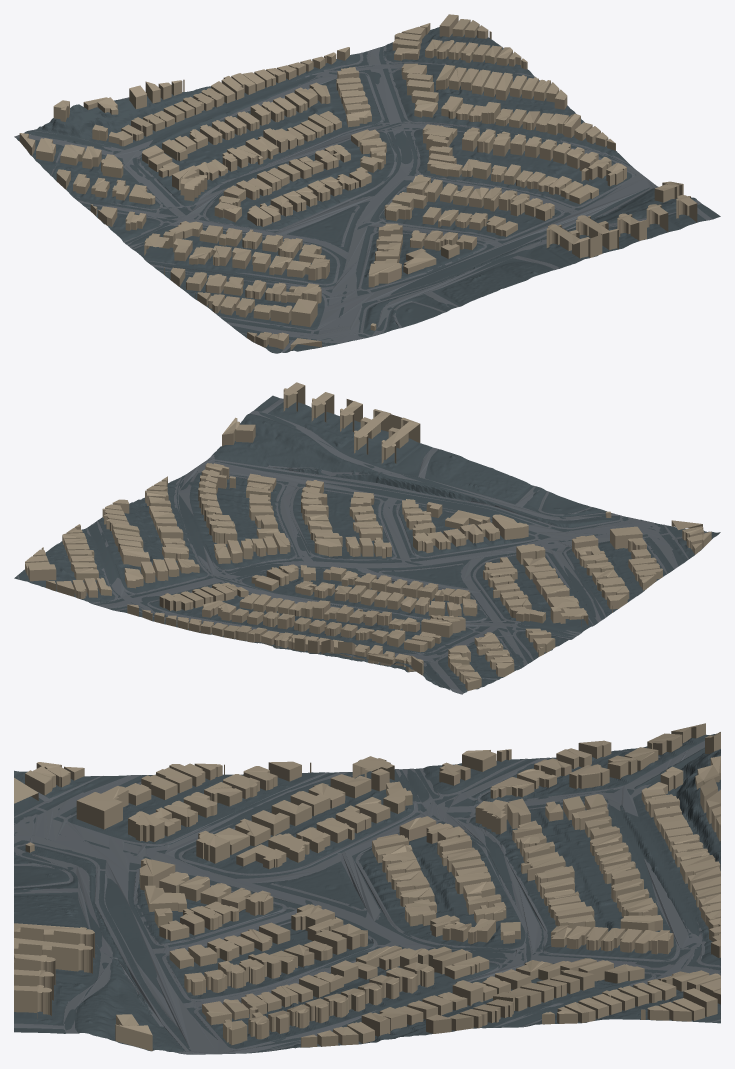
Rendered from epsg26910-1426-10879.lod0.glb.
The picture shows the model from 3 angles, top to bottom: view 1: azimuth 30°, elevation 25°; view 2: azimuth 150°, elevation 25°; view 3: azimuth 270°, elevation 25°; orthographic projection. The views are drawn at different scales.
Parts seen in each view (by area): view 1: epsg26910-1426-10879-lod0; view 2: epsg26910-1426-10879-lod0; view 3: epsg26910-1426-10879-lod0.
Part boxes in pixels (x1,y1,x2,y2): epsg26910-1426-10879-lod0: [14, 14, 720, 353]; epsg26910-1426-10879-lod0: [14, 382, 720, 694]; epsg26910-1426-10879-lod0: [14, 723, 720, 1054].
Size of the model in its own units: 384 by 48.64 by 384.
